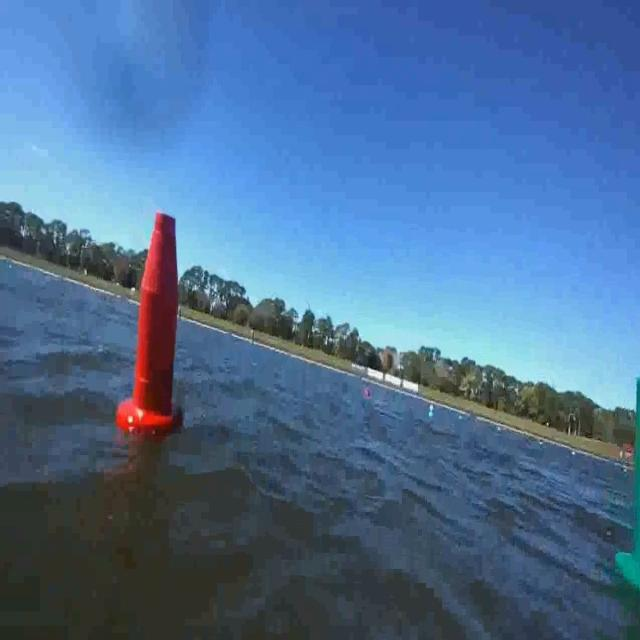green-column-buoy: (615, 366, 640, 590)
red-column-buoy: (119, 205, 184, 437)
